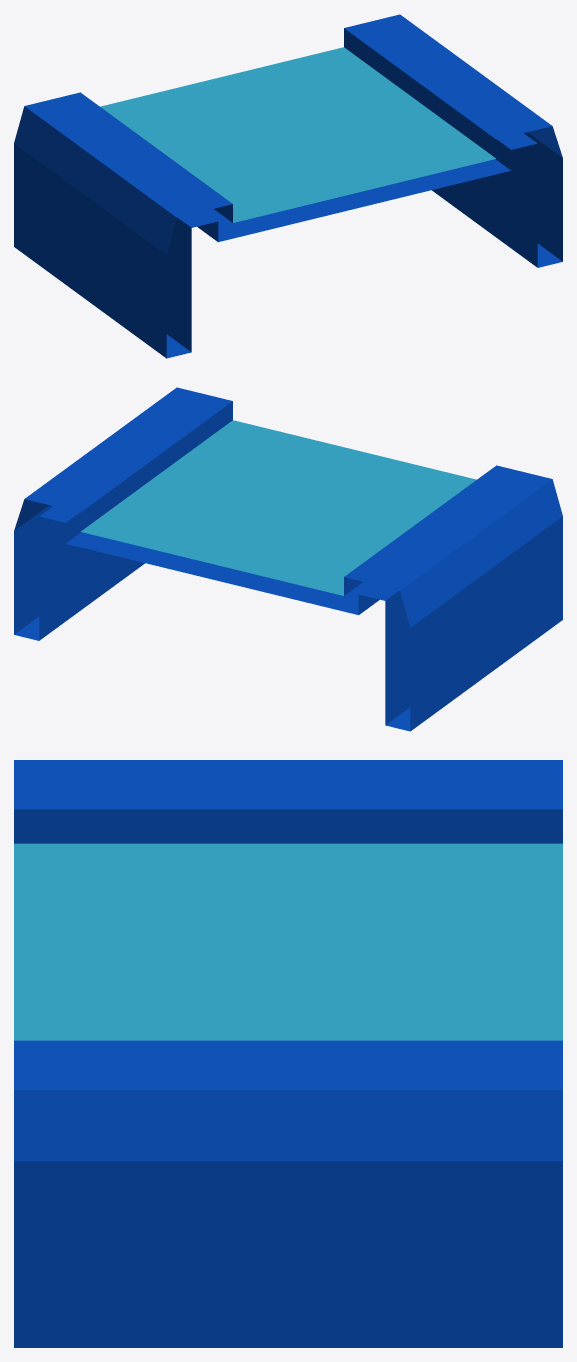
Rendered from Aqua01.fbx.
3 renders of one model, top to bottom at view 1: azimuth 30°, elevation 25°; view 2: azimuth 150°, elevation 25°; view 3: azimuth 270°, elevation 25°, orthographic. The views are drawn at different scales.
Parts seen in each view (by area): view 1: Aqua01; view 2: Aqua01; view 3: Aqua01.
Boxes of the visible parts, box(x1,y1,x2,y2) form: Aqua01: box(14, 14, 562, 358); Aqua01: box(14, 387, 562, 731); Aqua01: box(14, 760, 562, 1347).
Size of the model in its own units: 600 by 200 by 400.
